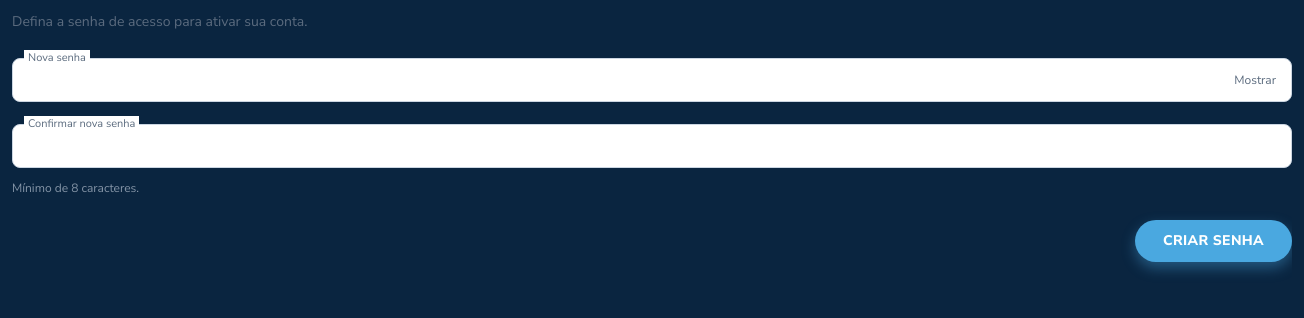
Test: NovaSenhaForm › valida o tamanho mínimo e a confirmação antes de enviar
This screenshot has width=1304, height=318.
Type "curta" into the 1st password field.
click(652, 80); type("curta")  # box [12, 58, 1292, 102]
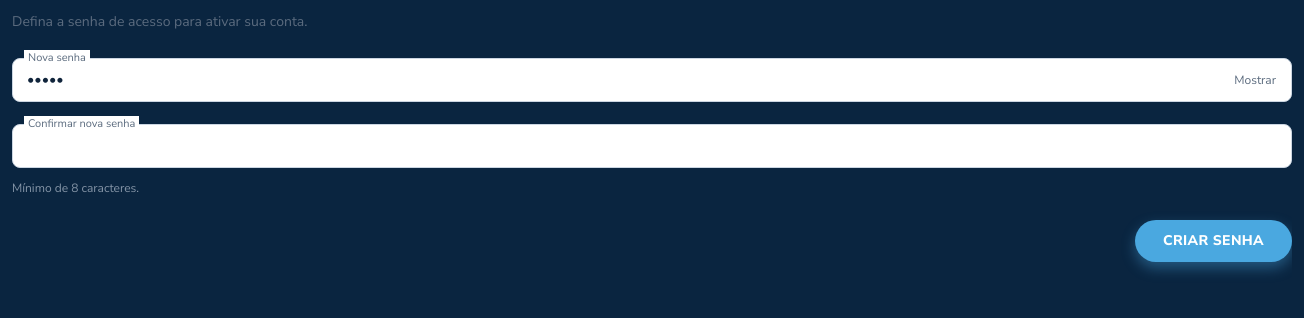
Type "curta" into the password field next to "Confirmar nova senha".
click(652, 146); type("curta")  # box [12, 124, 1292, 168]
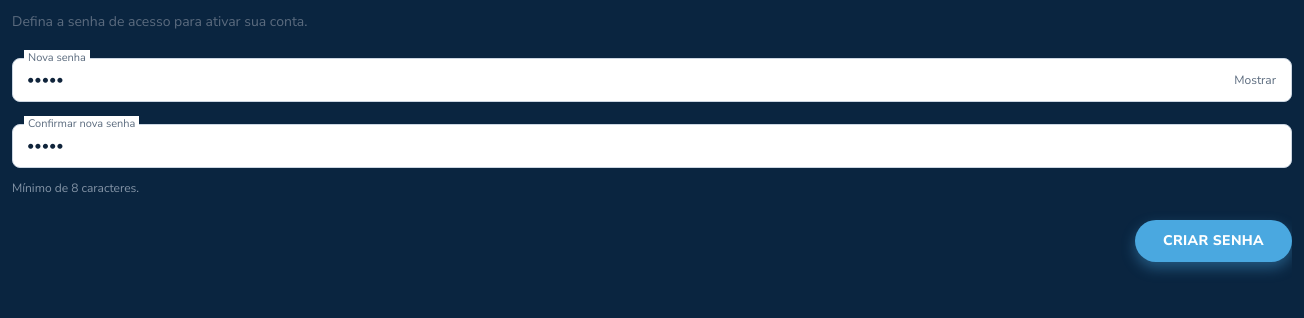
Click the button "CRIAR SENHA".
click(1214, 241)  # box [1135, 220, 1292, 262]
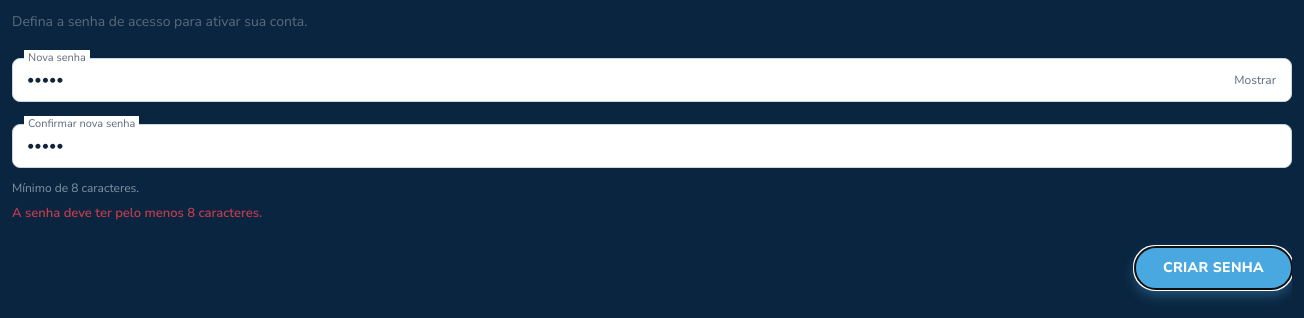
Now the text "A senha deve ter pelo menos 8 caracteres." is shown, box [12, 204, 262, 222]
Type "senhaforte1" into the 1st password field.
click(652, 80); type("senhaforte1")  # box [12, 58, 1292, 102]
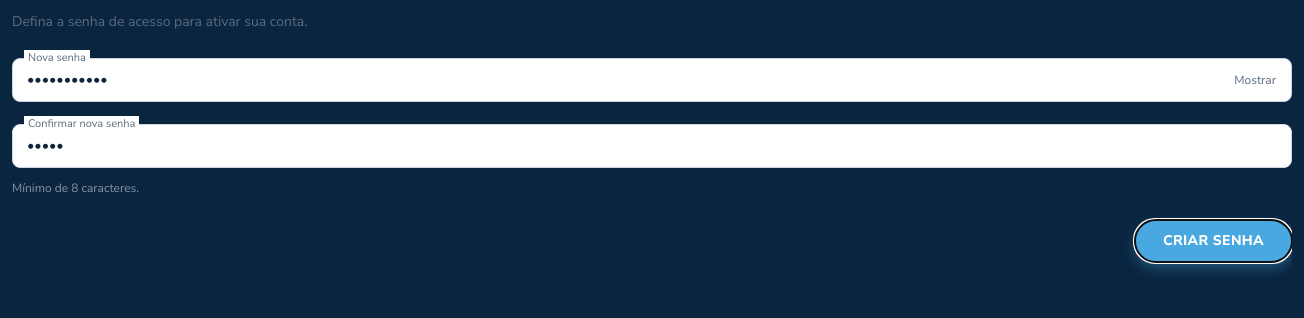
Type "senhaforte2" into the password field next to "Confirmar nova senha".
click(652, 146); type("senhaforte2")  # box [12, 124, 1292, 168]
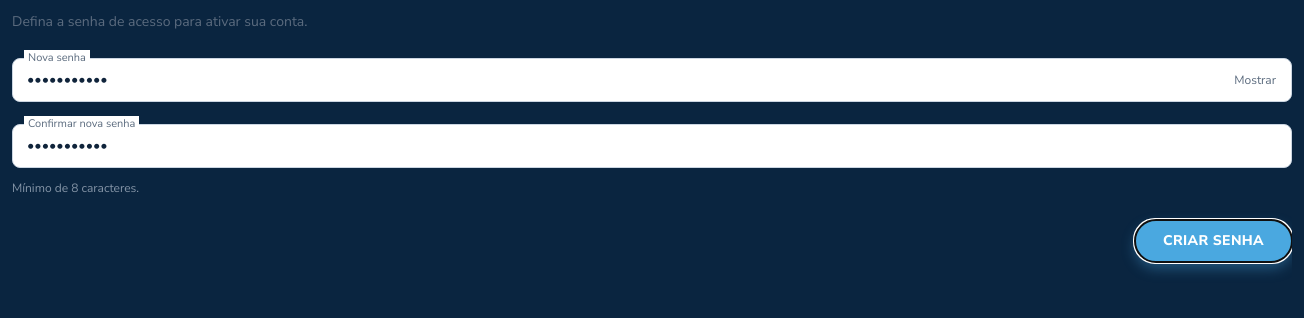
Click the button "CRIAR SENHA".
click(1214, 241)  # box [1135, 220, 1292, 262]
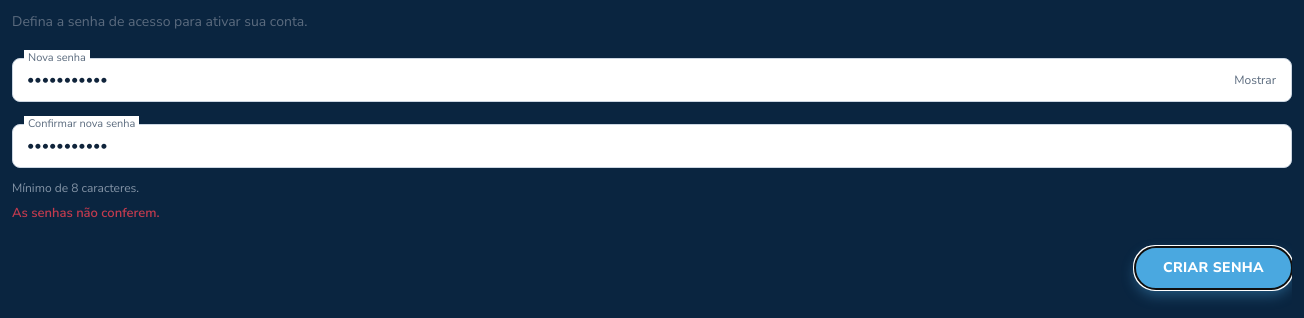
Now the text "As senhas não conferem." is shown, box [12, 204, 160, 222]
